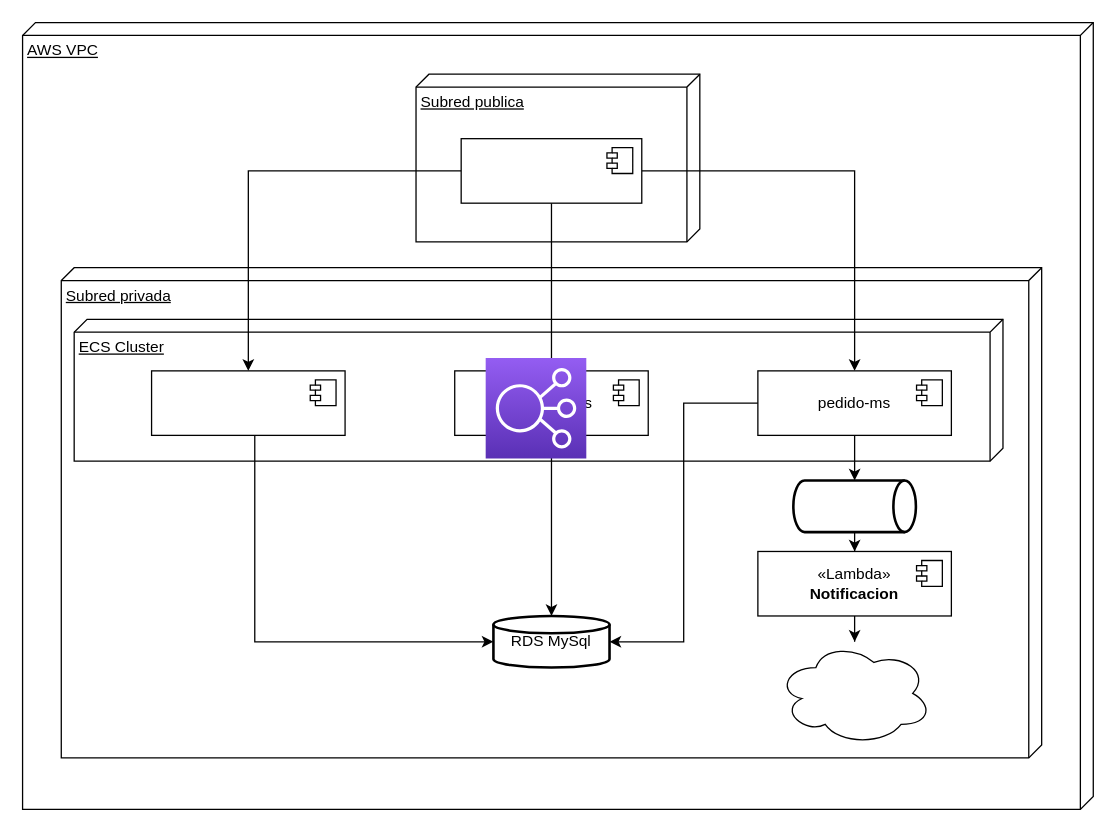
Image size: 1116x832. Some labels were removed from this diagram. Here are the shapes that lost their labels. From the top down, the centre of each, then its label:
point 551,170: API Gateway
point 247,402: inventario-ms
point 854,506: SQS
point 854,692: SNS
